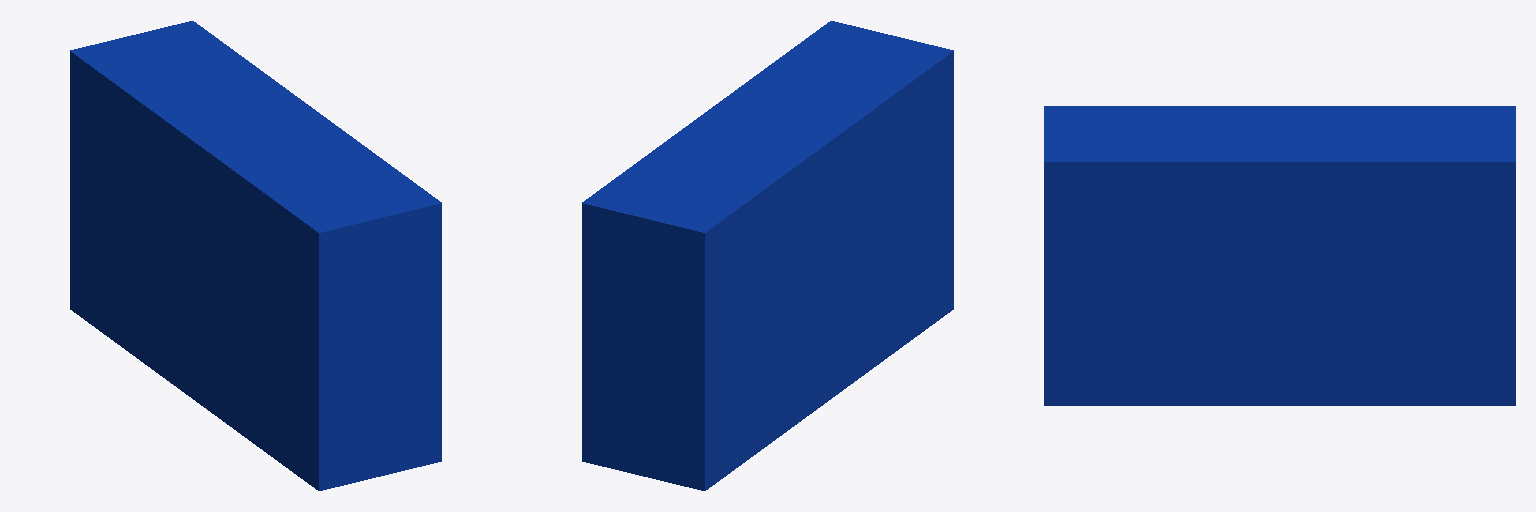
URDF robot description (simple_cube_long):
<robot name="simple_cube_long">
  <link name="cube_long">
    <inertial>
      <mass value="1.0" />
      <!-- center of mass (com) is defined w.r.t. link local coordinate system -->
      <!-- give a little y-offset to make the top precess -->
      <origin xyz="0 0 0" /> 
      <inertia  ixx="1.0" ixy="0.0"  ixz="0.0"  iyy="1.0"  iyz="0.0"  izz="1.0" />
    </inertial>
    <visual>
      <!-- visual origin is defined w.r.t. link local coordinate system -->
      <origin xyz="0 0 0" rpy="0 0 0" />
      <geometry>
        <box size="0.1 0.35 0.2" />
      </geometry>
      <material name="cuby">
        <color rgba="0.1 0.3 0.7 0.9"/>
      </material>
    </visual>
    <collision>
      <!-- collision origin is defined w.r.t. link local coordinate system -->
      <origin xyz="0 0 0" rpy="0 0 0" />
      <geometry>
        <box size="0.1 0.35 0.2" />
      </geometry>
    </collision>
  </link>
  <gazebo reference="cube_long">
    <mu1>10</mu1>
    <mu2>10</mu2>
    <material>Gazebo/Red</material>
    <turnGravityOff>false</turnGravityOff>
  </gazebo>
</robot>

--- Facts derived from the render (not from the file) ---
Views: 3 orthographic renders of the robot side by side, from view 1: azimuth 30°, elevation 25°; view 2: azimuth 150°, elevation 25°; view 3: azimuth 270°, elevation 25°.
Robot: simple_cube_long — 1 links, 0 joints (none); root link cube_long; default pose: every joint at zero.
Links seen in each view (by area): view 1: cube_long; view 2: cube_long; view 3: cube_long.
Link boxes in pixels (x1,y1,x2,y2): cube_long: [70, 21, 441, 490]; cube_long: [582, 21, 953, 490]; cube_long: [1044, 106, 1515, 405].
Size in the robot's own frame: 0.1 by 0.35 by 0.2 metres.
Geometry: primitives only (box / cylinder / sphere), no mesh files.